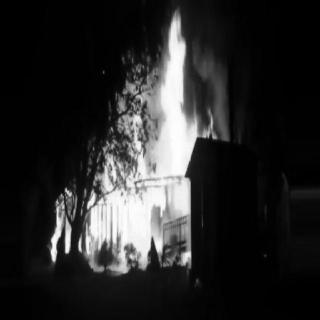Fire: (114, 15, 213, 273), (53, 163, 128, 277)
